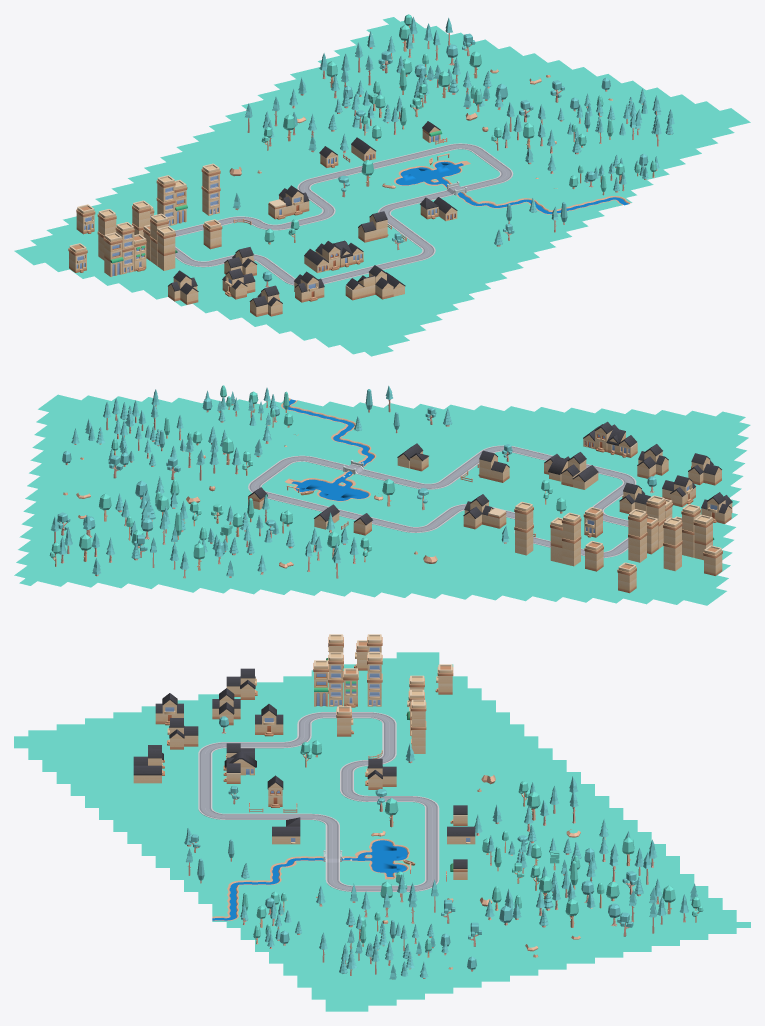
Rendered from small-scene.glb.
The picture shows the model from 3 angles, top to bottom: view 1: azimuth 30°, elevation 25°; view 2: azimuth 150°, elevation 25°; view 3: azimuth 270°, elevation 25°; orthographic projection. The views are drawn at different scales.
Parts seen in each view (by area): view 1: ground_grass.001; view 2: ground_grass.001; view 3: ground_grass.001.
Part boxes in pixels (left/top/right/bottom): ground_grass.001: left=14, top=14, right=750, bottom=356; ground_grass.001: left=14, top=385, right=750, bottom=605; ground_grass.001: left=14, top=634, right=750, bottom=1011.
Bounding box in the file's own units: 60 × 3.86 × 52.
Materials: 169 (47 with a texture image).
